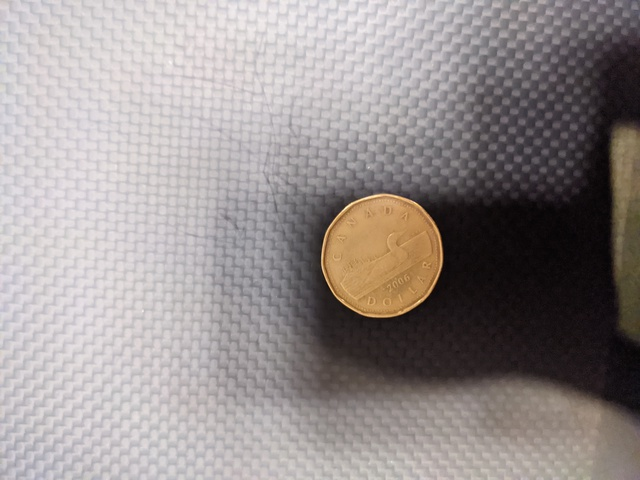loonie: (309, 180, 455, 331)
